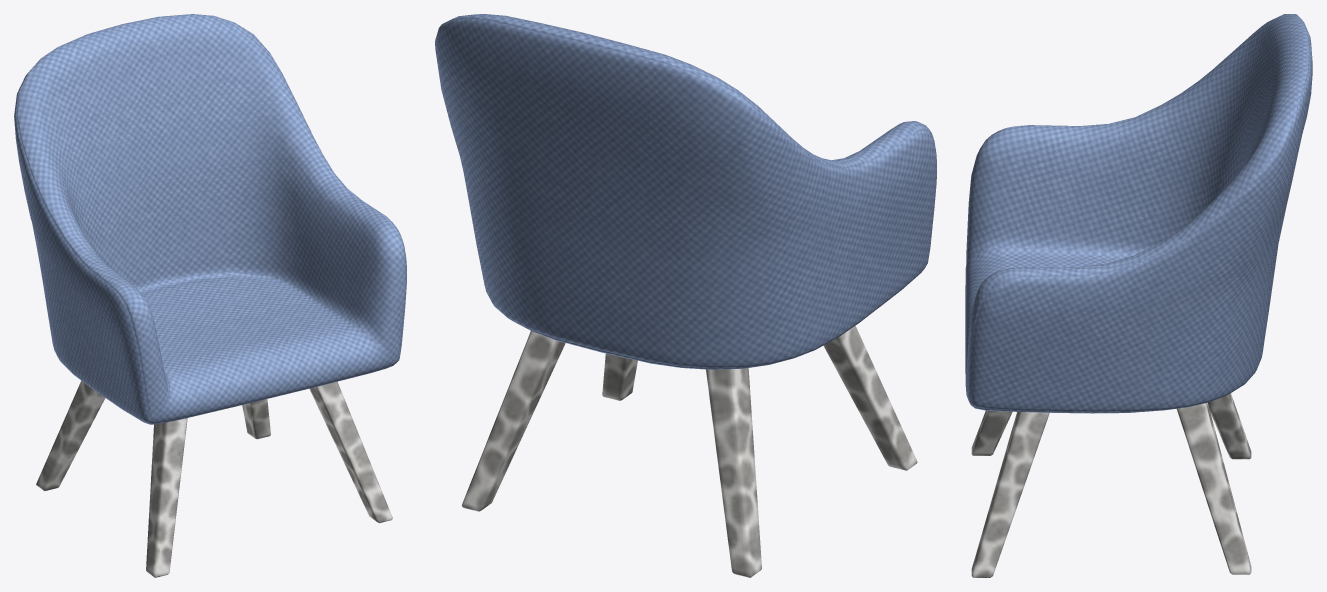
File: blue-metal.glb
3 views of the same model, side by side, from view 1: azimuth 30°, elevation 25°; view 2: azimuth 150°, elevation 25°; view 3: azimuth 270°, elevation 25° (orthographic). The views are drawn at different scales.
Parts seen in each view (by area): view 1: seat_mesh_n3d, leg_004_mesh_n3d, leg_003_mesh_n3d, leg_002_mesh_n3d, leg_001_mesh_n3d; view 2: seat_mesh_n3d, leg_002_mesh_n3d, leg_001_mesh_n3d, leg_004_mesh_n3d, leg_003_mesh_n3d; view 3: seat_mesh_n3d, leg_001_mesh_n3d, leg_003_mesh_n3d, leg_002_mesh_n3d, leg_004_mesh_n3d.
Part boxes in pixels (x1,y1,x2,y2): seat_mesh_n3d: (14,14,406,424); leg_004_mesh_n3d: (146,418,187,577); leg_003_mesh_n3d: (309,381,392,523); leg_002_mesh_n3d: (36,381,105,491); leg_001_mesh_n3d: (242,399,270,439); seat_mesh_n3d: (435,14,936,369); leg_002_mesh_n3d: (706,368,761,577); leg_001_mesh_n3d: (461,331,565,511); leg_004_mesh_n3d: (823,326,917,470); leg_003_mesh_n3d: (602,353,637,400); seat_mesh_n3d: (965,14,1312,413); leg_001_mesh_n3d: (1176,402,1251,574); leg_003_mesh_n3d: (971,412,1049,577); leg_002_mesh_n3d: (1208,393,1251,459); leg_004_mesh_n3d: (971,410,1012,455).
Bounding box in the file's own units: 0.8208 × 1.14 × 0.7759.
Materials: 5 (5 with a texture image).
